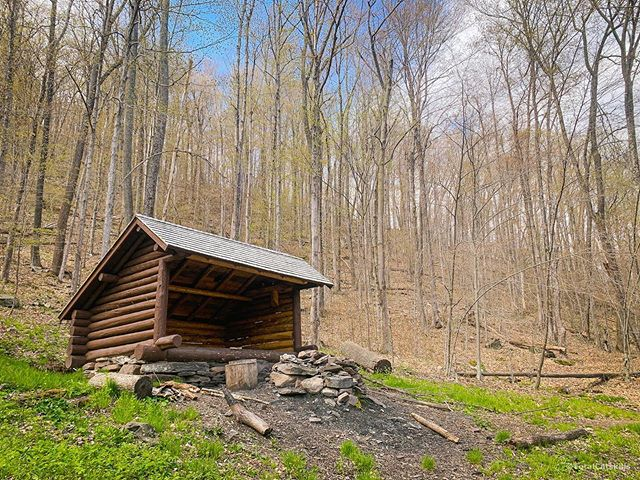building: (62, 217, 329, 387)
vegetation: (1, 1, 640, 341)
